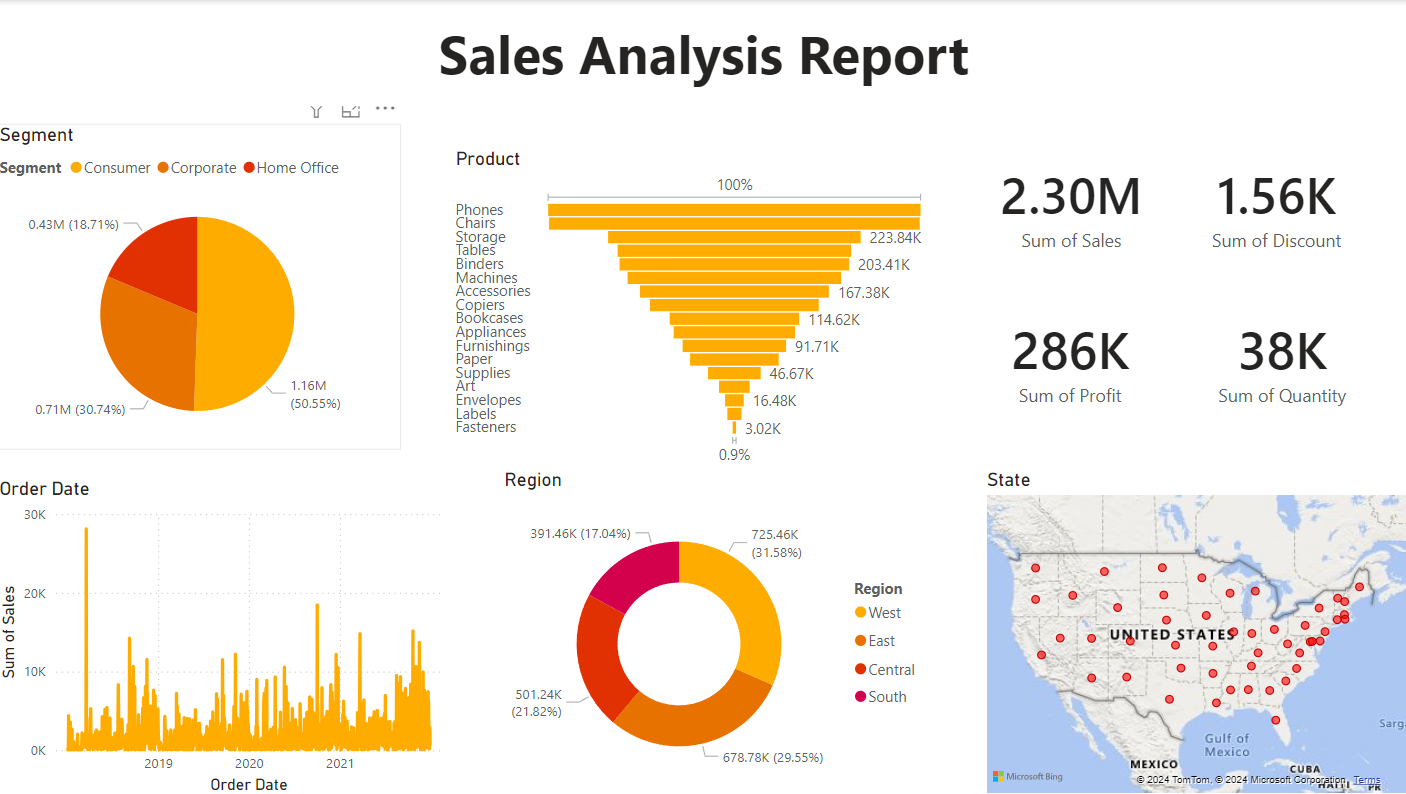

This screenshot's page, from the dashboard's own definition file:
{"tool":"powerbi","page":{"name":"Page 1","canvas":[1280,720],"ordinal":0},"visuals":[{"type":"donutChart","title":"Region","fields":{"Category":["Orders.Region"],"Y":["Sum(Orders.Sales)"]},"box":[455.7,422.9,390,297.1],"z":0},{"type":"funnel","title":"Product","fields":{"Category":["Orders.Sub-Category"],"Y":["Sum(Orders.Sales)"]},"box":[411.4,132.9,434.3,290],"z":1000},{"type":"map","fields":{"Category":["Orders.State"]},"box":[890,422.9,390,297.1],"z":2000},{"type":"pieChart","title":"Segment","fields":{"Category":["Orders.Segment"],"Y":["Sum(Orders.Sales)"]},"box":[0,111.4,367.1,294.3],"z":3000},{"type":"lineChart","title":"Order Date","fields":{"Category":["Orders.Order Date"],"Y":["Sum(Orders.Sales)"]},"box":[0,430,411.4,290],"z":4000},{"type":"card","fields":{"Values":["Sum(Orders.Sales)"]},"box":[872.9,128.6,198.6,114.3],"z":5000},{"type":"card","fields":{"Values":["Sum(Orders.Profit)"]},"box":[871.4,258.6,198.6,132.9],"z":6000},{"type":"card","fields":{"Values":["Sum(Orders.Discount)"]},"box":[1070,128.6,174.3,114.3],"z":7000},{"type":"card","fields":{"Values":["Sum(Orders.Quantity)"]},"box":[1070,258.6,184.3,132.9],"z":8000},{"type":"textbox","box":[181.4,10,917.1,85.7],"z":9000}]}

Visuals, with their boxes in screenshot pixels (x1, y1, x2, y2), scaled from the page's 1280x720 canvas onto the 1406x794 screenshot:
"Region" donutChart: x1=501, y1=466, x2=929, y2=793
"Product" funnel: x1=452, y1=147, x2=929, y2=466
map - Orders.State: x1=978, y1=466, x2=1405, y2=793
"Segment" pieChart: x1=0, y1=123, x2=403, y2=447
"Order Date" lineChart: x1=0, y1=474, x2=452, y2=793
card - Sum(Orders.Sales): x1=959, y1=142, x2=1177, y2=268
card - Sum(Orders.Profit): x1=957, y1=285, x2=1175, y2=432
card - Sum(Orders.Discount): x1=1175, y1=142, x2=1367, y2=268
card - Sum(Orders.Quantity): x1=1175, y1=285, x2=1378, y2=432
textbox: x1=199, y1=11, x2=1207, y2=106
